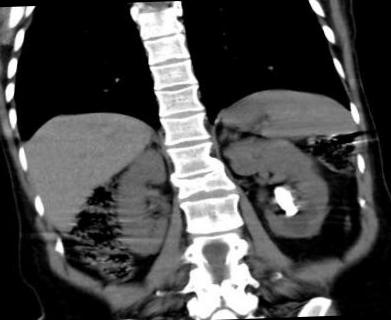Tas_Var: (271, 185, 301, 219)
